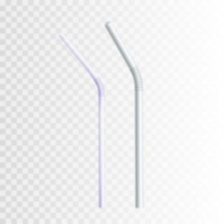drinking_straw: (53, 30, 110, 211), (101, 17, 149, 211)
